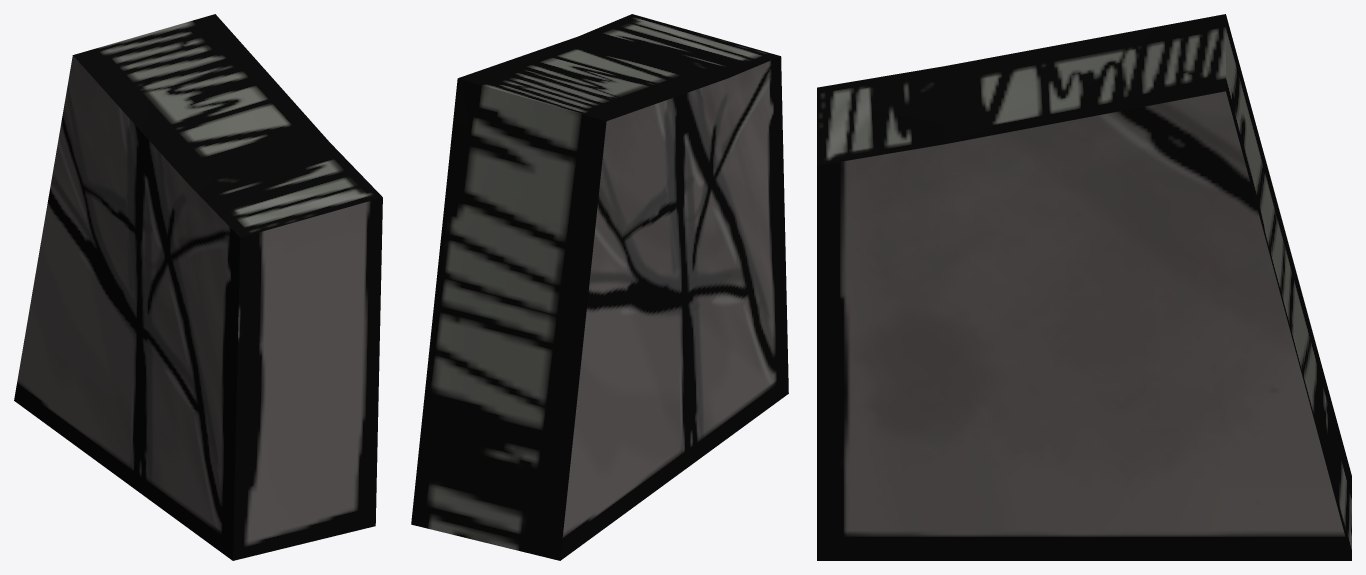
File: tombstone_04_gib5.fbx
3 views of the same model, side by side, from view 1: azimuth 30°, elevation 25°; view 2: azimuth 150°, elevation 25°; view 3: azimuth 270°, elevation 25° (orthographic). The views are drawn at different scales.
Visible parts, largest first — view 1: tombstone_04_gib5; view 2: tombstone_04_gib5; view 3: tombstone_04_gib5.
Boxes of the visible parts, x1=… form: tombstone_04_gib5: x1=14, y1=14, x2=382, y2=560; tombstone_04_gib5: x1=411, y1=14, x2=788, y2=560; tombstone_04_gib5: x1=817, y1=14, x2=1351, y2=560.
Bounding box in the file's own units: 1.05 × 2.6 × 2.65.
